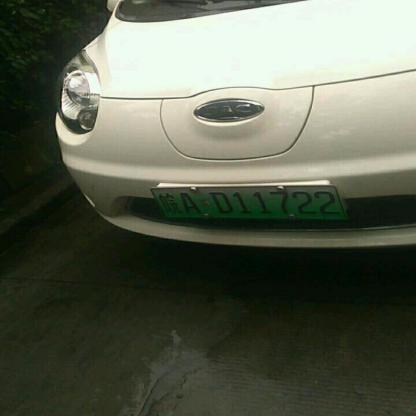lp: (149, 186, 346, 219)
